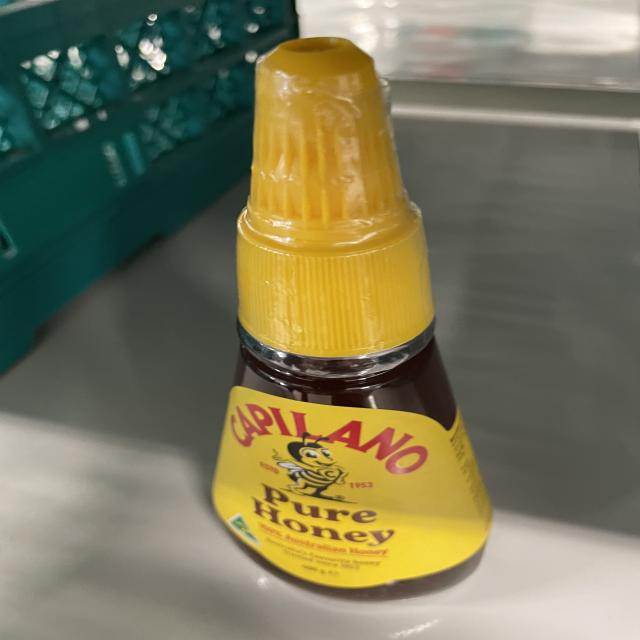object_name: (232, 40, 474, 586)
